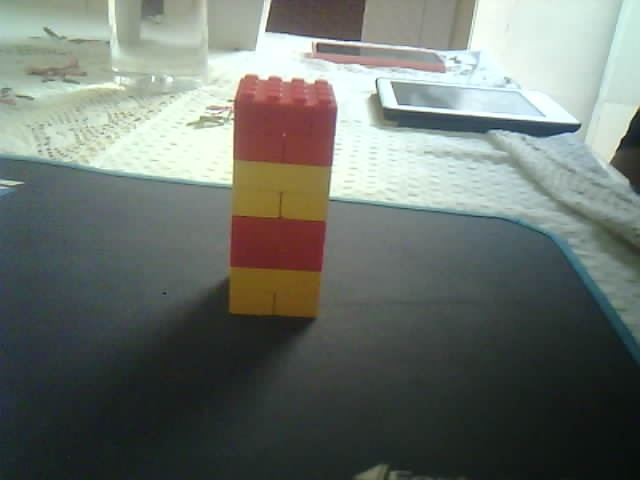lego: (227, 72, 339, 318)
